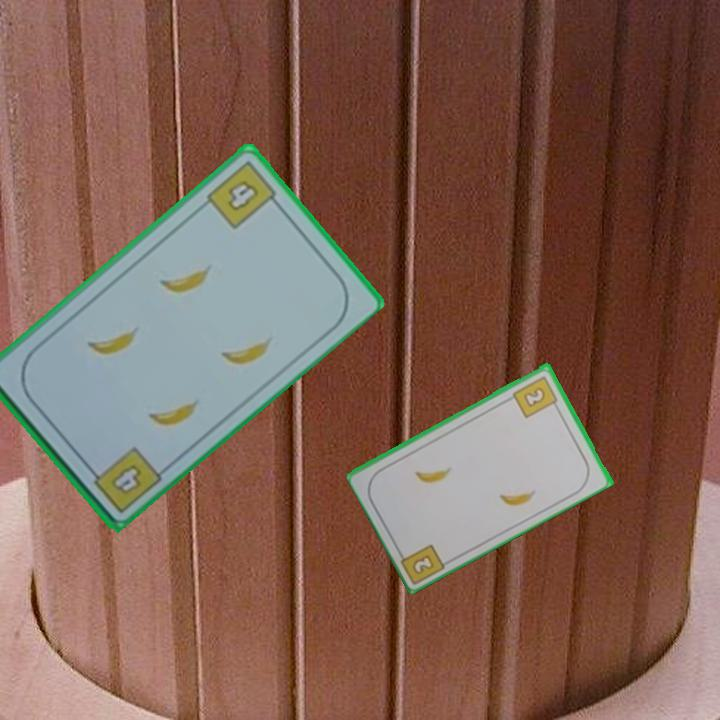2b: (509, 372, 562, 420), (395, 540, 449, 585)
4b: (202, 157, 284, 232), (83, 442, 164, 516)
